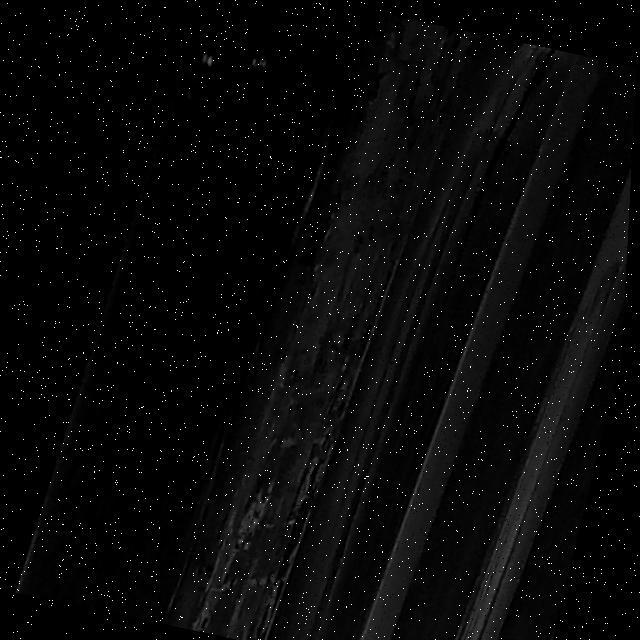rust: (150, 72, 449, 640)
